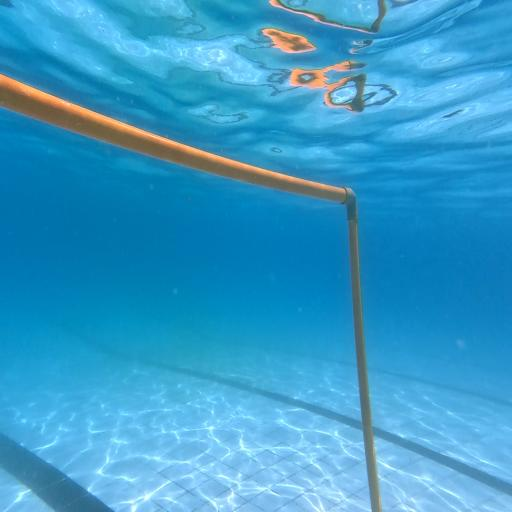gate: (0, 73, 382, 512)
